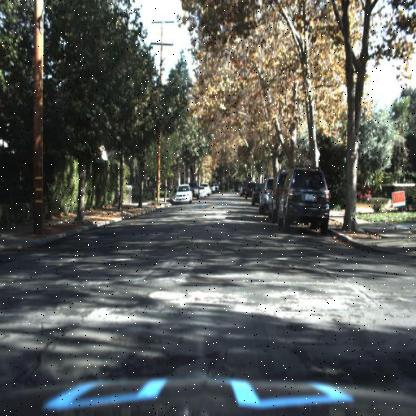car: (278, 165, 331, 236), (268, 169, 287, 226), (268, 171, 284, 228), (259, 175, 272, 220), (258, 174, 270, 217), (174, 182, 193, 206), (174, 184, 192, 204), (189, 180, 200, 203), (197, 184, 208, 202)
